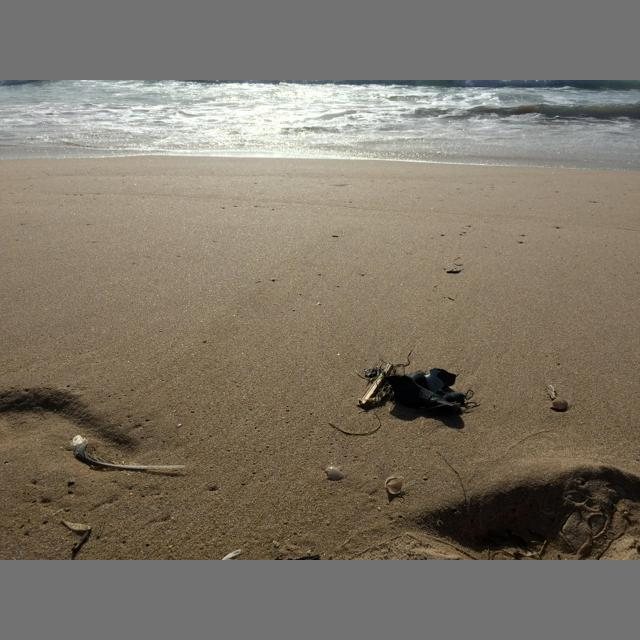litter: (385, 368, 464, 416)
